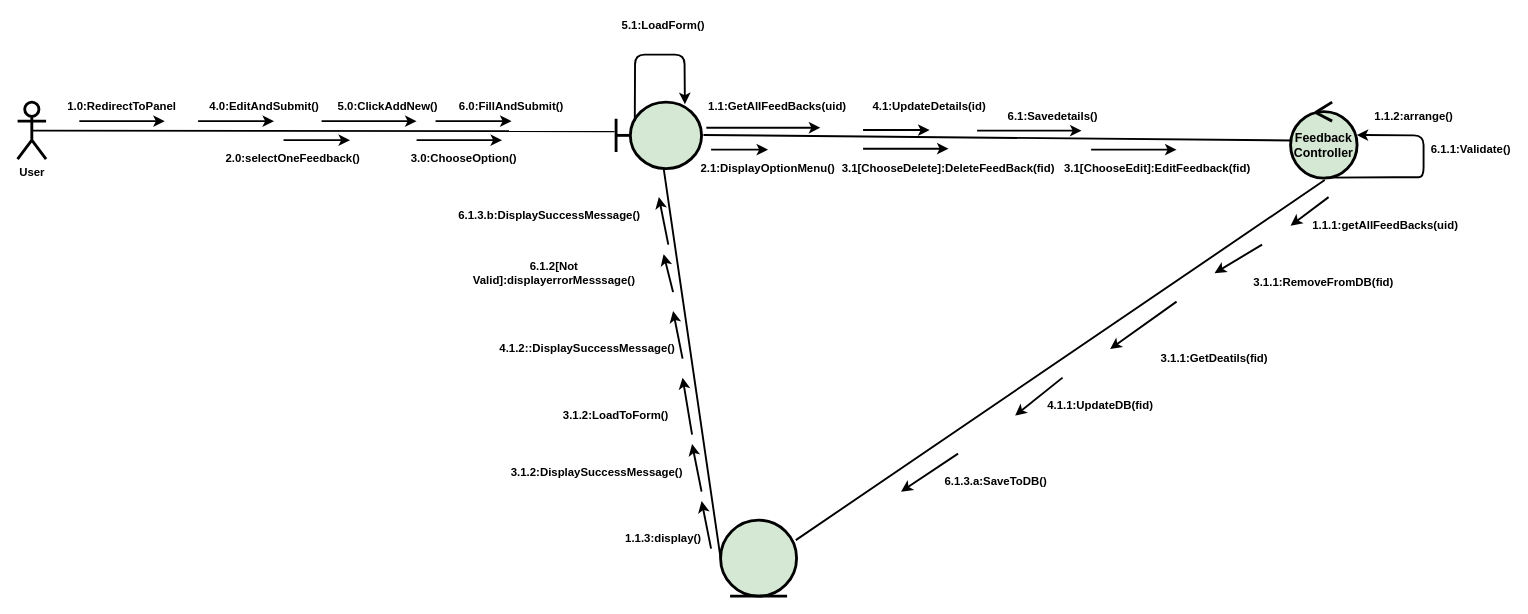
The diagram is 1528 pixels wide and 614 high, and some of its shapes have lost their labels. Each missing label, with the centre of its shape:
Feedback DB: the point at 758,557
Research Panel UI: the point at 658,135
